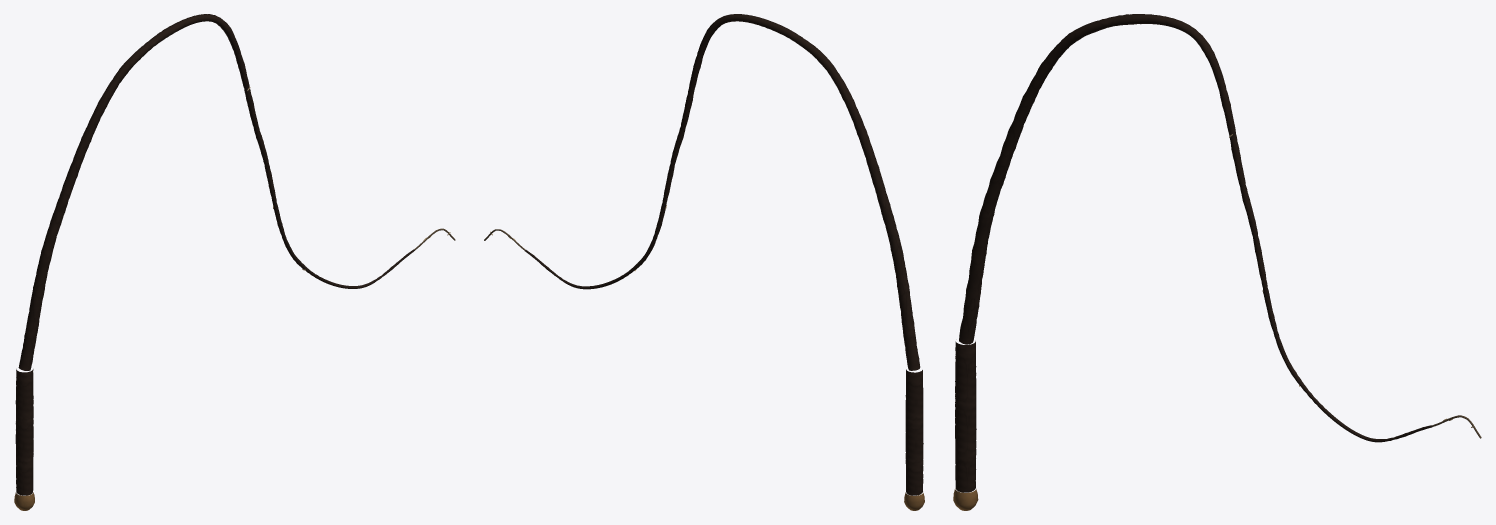
File: whip.lod1.glb
3 views of the same model, side by side, from view 1: azimuth 30°, elevation 25°; view 2: azimuth 150°, elevation 25°; view 3: azimuth 330°, elevation 25° (orthographic). The views are drawn at different scales.
Parts seen in each view (by area): view 1: leather / oiled leather wrap; view 2: leather / oiled leather wrap; view 3: leather / oiled leather wrap.
Part boxes in pixels (x1,y1,x2,y2): leather / oiled leather wrap: (15, 14, 414, 495); leather / oiled leather wrap: (525, 14, 923, 495); leather / oiled leather wrap: (955, 14, 1432, 492).
Bounding box in the file's own units: 0.971 × 0.9543 × 0.0495.
4 materials, 3 textured.
